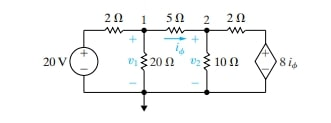dc: (70, 45, 100, 78)
dc_dependent: (254, 42, 278, 80)
resistor: (101, 25, 127, 38), (222, 24, 250, 36), (138, 50, 149, 74), (164, 26, 190, 36), (202, 50, 212, 75)
